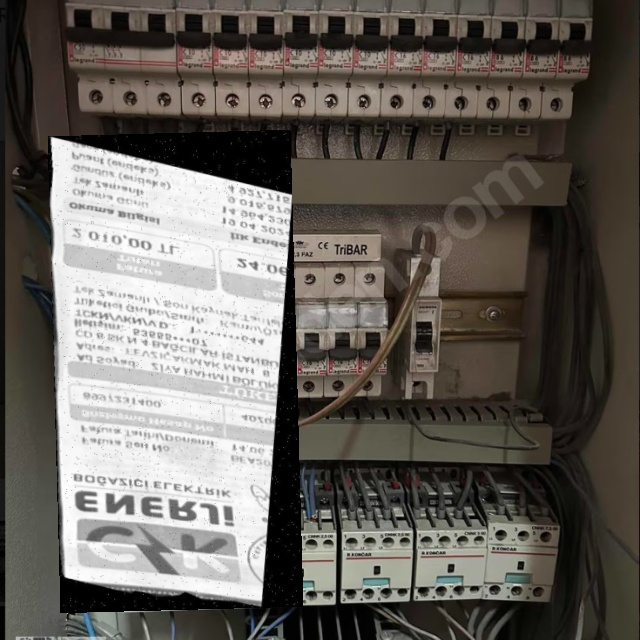electricity-bill: (48, 130, 303, 613)
